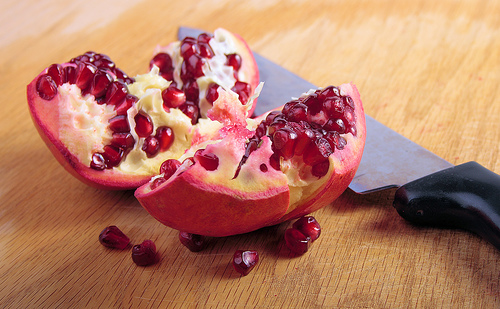pomogranate: (25, 28, 367, 240)
